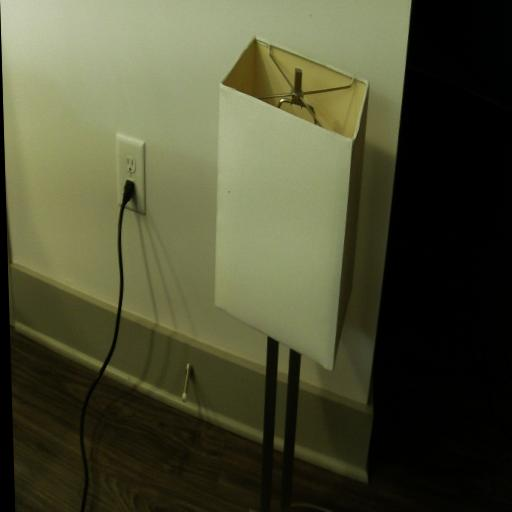lamp: (208, 36, 382, 512)
